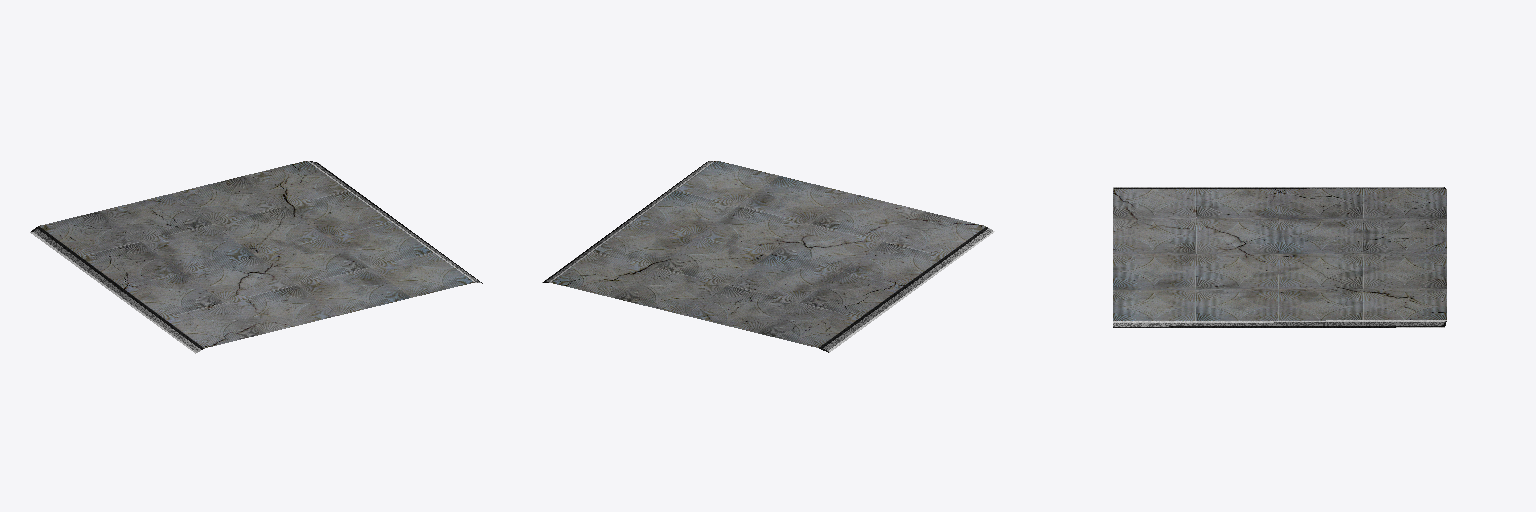
3 views of the same model, side by side, from view 1: azimuth 30°, elevation 25°; view 2: azimuth 150°, elevation 25°; view 3: azimuth 270°, elevation 25° (orthographic).
Parts seen in each view (by area): view 1: Cube; view 2: Cube; view 3: Cube.
Boxes of the visible parts, box(x1,y1,x2,y2) form: Cube: box(30, 161, 482, 353); Cube: box(542, 161, 994, 352); Cube: box(1113, 187, 1446, 327).
Bounding box in the file's own units: 4.51 × 0.0479 × 4.54.
Materials: 1 (1 with a texture image).